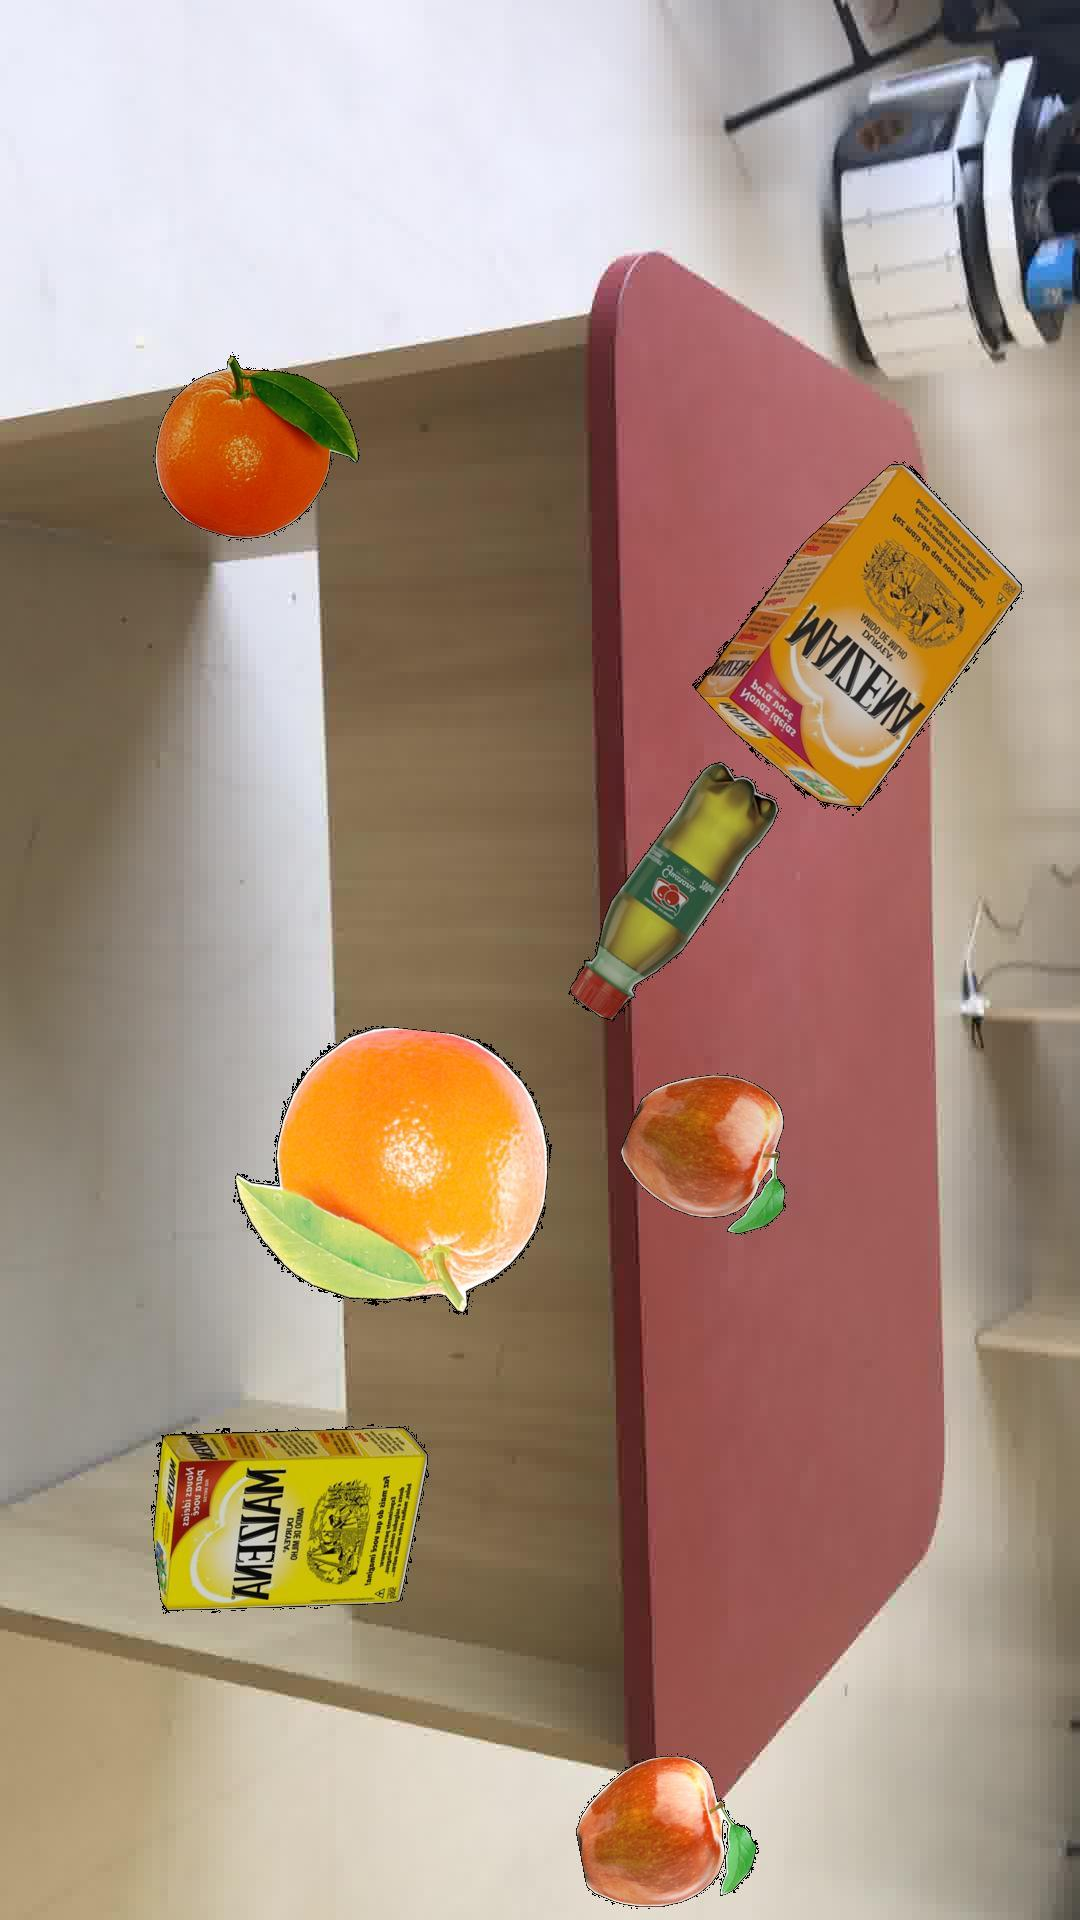apple: (575, 1754, 757, 1905), (620, 1073, 785, 1233)
guarana: (567, 761, 778, 1019)
orange: (233, 1025, 550, 1313), (153, 353, 359, 538)
